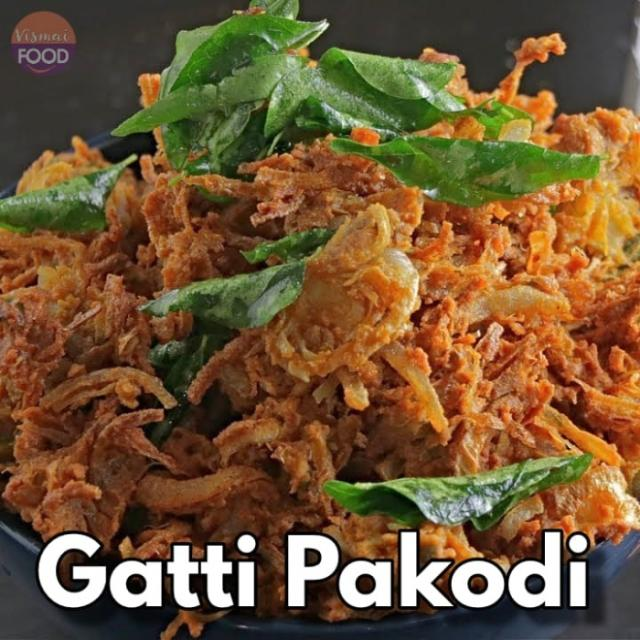BAJI: (7, 85, 631, 532)
